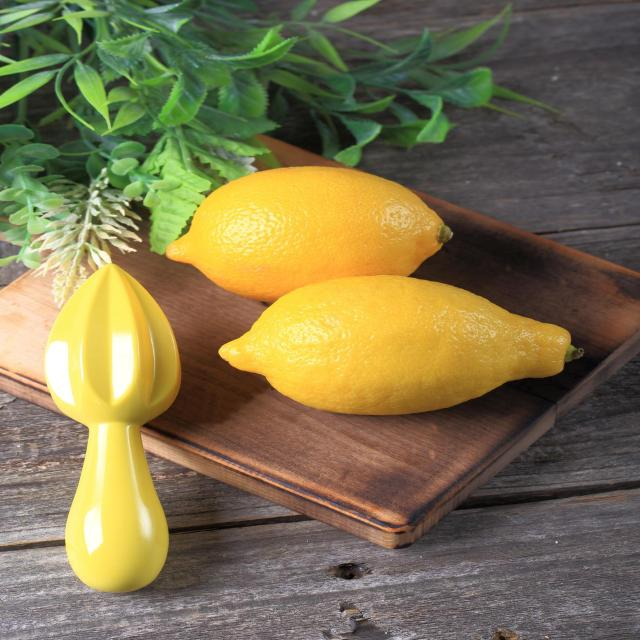lemon: (209, 271, 585, 419), (150, 161, 463, 306)
